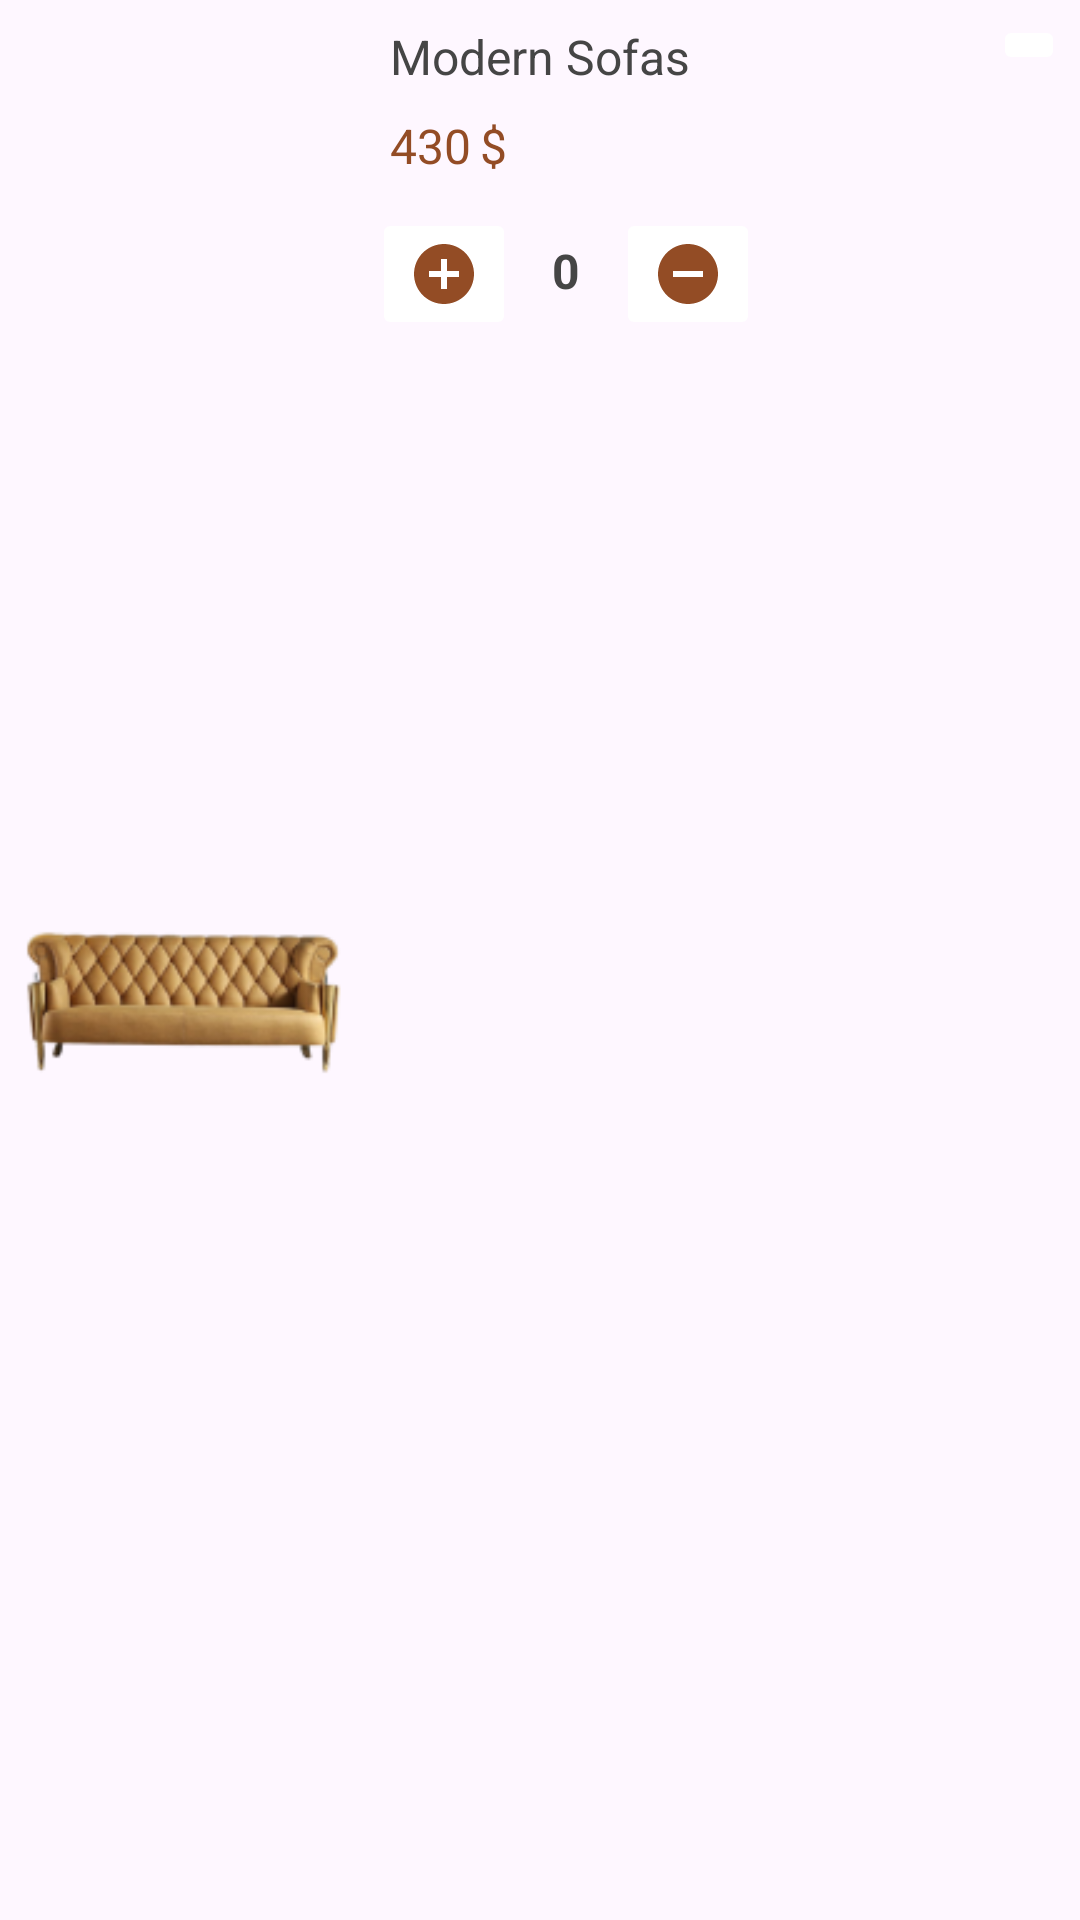

Icon click points for this 1080w x 1920h phone screenshot, format point (x, y):
add circle: point (444, 274)
sofa: point (183, 1002)
sub circle: point (688, 274)
